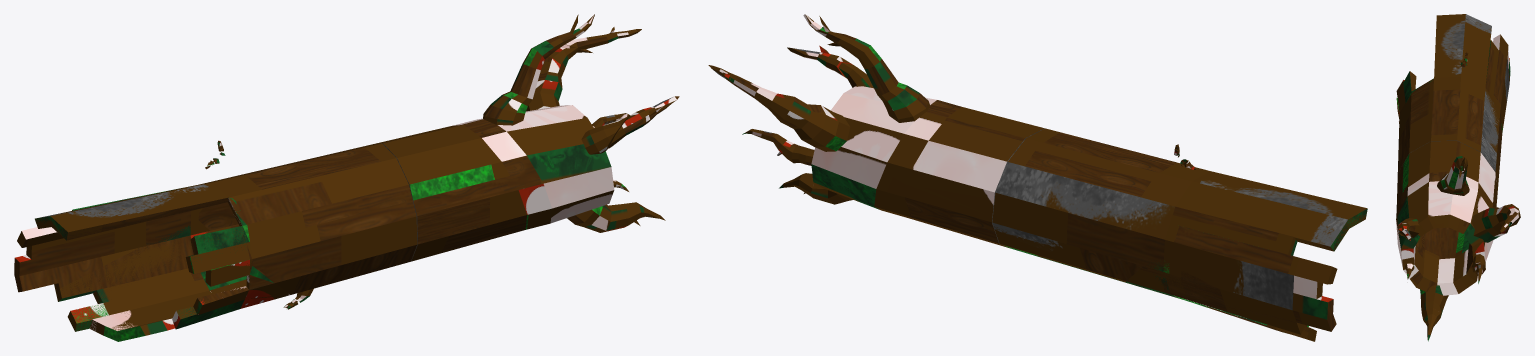
Rendered from troncopartido.fbx.
3 renders of one model, left to right at view 1: azimuth 30°, elevation 25°; view 2: azimuth 150°, elevation 25°; view 3: azimuth 270°, elevation 25°, orthographic. The views are drawn at different scales.
Visible parts, largest first — view 1: TroncoCaido_cell.006, TroncoCaido_cell.010, TroncoCaido_cell.008, TroncoCaido_cell.001, TroncoCaido_cell.015, TroncoCaido_cell.003, TroncoCaido_cell.011, TroncoCaido_cell, TroncoCaido_cell.017; view 2: TroncoCaido_cell.006, TroncoCaido_cell.010, TroncoCaido_cell.001, TroncoCaido_cell.003, TroncoCaido_cell.015, TroncoCaido_cell.008, TroncoCaido_cell.005, TroncoCaido_cell.011, TroncoCaido_cell, TroncoCaido_cell.017; view 3: TroncoCaido_cell.010, TroncoCaido_cell.006, TroncoCaido_cell.001, TroncoCaido_cell.003, TroncoCaido_cell.011, TroncoCaido_cell.015, TroncoCaido_cell.005, TroncoCaido_cell.017, TroncoCaido_cell.
Boxes of the visible parts, x1,y1,x2,y2 form: TroncoCaido_cell.006: [14, 143, 417, 341]; TroncoCaido_cell.010: [372, 105, 614, 261]; TroncoCaido_cell.008: [57, 222, 288, 341]; TroncoCaido_cell.001: [35, 184, 252, 285]; TroncoCaido_cell.015: [483, 14, 594, 125]; TroncoCaido_cell.003: [526, 29, 641, 111]; TroncoCaido_cell.011: [567, 202, 665, 232]; TroncoCaido_cell: [608, 96, 679, 148]; TroncoCaido_cell.017: [581, 115, 629, 154]; TroncoCaido_cell.006: [992, 128, 1366, 341]; TroncoCaido_cell.010: [811, 85, 1044, 248]; TroncoCaido_cell.001: [1184, 171, 1367, 251]; TroncoCaido_cell.003: [708, 65, 850, 151]; TroncoCaido_cell.015: [803, 14, 930, 122]; TroncoCaido_cell.008: [1127, 261, 1316, 340]; TroncoCaido_cell.005: [742, 129, 814, 165]; TroncoCaido_cell.011: [779, 173, 852, 204]; TroncoCaido_cell: [787, 45, 852, 78]; TroncoCaido_cell.017: [838, 62, 873, 88]; TroncoCaido_cell.010: [1396, 141, 1497, 295]; TroncoCaido_cell.006: [1397, 34, 1510, 194]; TroncoCaido_cell.001: [1396, 14, 1491, 116]; TroncoCaido_cell.003: [1472, 204, 1520, 242]; TroncoCaido_cell.011: [1420, 285, 1448, 341]; TroncoCaido_cell.015: [1437, 156, 1469, 195]; TroncoCaido_cell.005: [1472, 254, 1485, 283]; TroncoCaido_cell.017: [1402, 218, 1419, 237]; TroncoCaido_cell: [1397, 222, 1411, 240].
Size of the model in its own units: 168 by 53.33 by 37.24.
